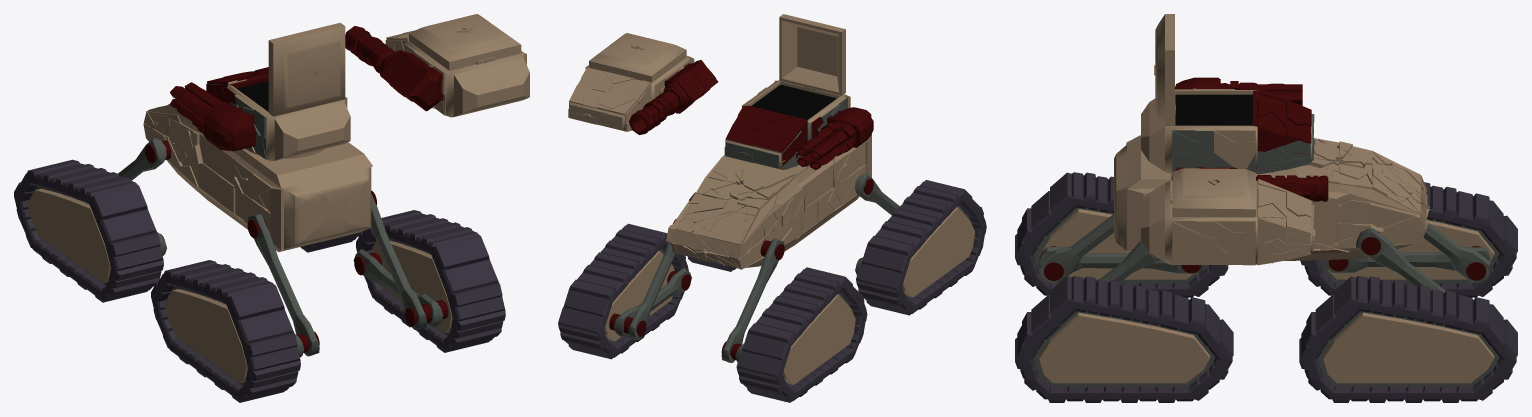
The model's file is Tex the tank for Snapshot.fbx.
3 views of the same model, side by side, from view 1: azimuth 30°, elevation 25°; view 2: azimuth 150°, elevation 25°; view 3: azimuth 270°, elevation 25° (orthographic). The views are drawn at different scales.
Parts seen in each view (by area): view 1: pCube1, polySurface21, polySurface22, polySurface24, pCube2, pCube5, pCube10, pCube8, pCube4, pCube11, polySurface37, polySurface33 (+3 smaller); view 2: pCube1, polySurface22, polySurface21, polySurface23, pCube2, pCube5, pCube10, pCube8, pCube4, pCube11, polySurface35, polySurface31 (+2 smaller); view 3: polySurface24, polySurface23, pCube1, pCube2, pCube10, polySurface21, polySurface22, pCube8, pCube5, polySurface37, polySurface31, pCube11 (+5 smaller).
Part boxes in pixels (x1=…): pCube1: x1=143, y1=102, x2=372, y2=252; polySurface21: x1=151, y1=260, x2=300, y2=402; polySurface22: x1=14, y1=159, x2=163, y2=302; polySurface24: x1=356, y1=210, x2=505, y2=352; pCube2: x1=206, y1=67, x2=350, y2=160; pCube5: x1=268, y1=22, x2=345, y2=116; pCube10: x1=385, y1=30, x2=529, y2=117; pCube8: x1=409, y1=14, x2=521, y2=70; pCube4: x1=345, y1=26, x2=443, y2=111; pCube11: x1=170, y1=82, x2=255, y2=151; polySurface37: x1=247, y1=213, x2=319, y2=356; polySurface33: x1=370, y1=194, x2=427, y2=329; pCube1: x1=666, y1=134, x2=871, y2=269; polySurface22: x1=736, y1=267, x2=867, y2=402; polySurface21: x1=856, y1=180, x2=986, y2=315; polySurface23: x1=558, y1=223, x2=688, y2=359; pCube2: x1=724, y1=80, x2=850, y2=169; pCube5: x1=779, y1=14, x2=845, y2=95; pCube10: x1=568, y1=56, x2=694, y2=131; pCube8: x1=589, y1=33, x2=686, y2=82; pCube4: x1=629, y1=60, x2=717, y2=134; pCube11: x1=797, y1=107, x2=873, y2=169; polySurface35: x1=721, y1=238, x2=784, y2=362; polySurface31: x1=628, y1=242, x2=676, y2=339; polySurface24: x1=1015, y1=276, x2=1233, y2=402; polySurface23: x1=1299, y1=276, x2=1517, y2=402; pCube1: x1=1114, y1=135, x2=1431, y2=260; pCube2: x1=1141, y1=88, x2=1315, y2=174; pCube10: x1=1141, y1=179, x2=1315, y2=265; polySurface21: x1=1015, y1=172, x2=1228, y2=297; polySurface22: x1=1300, y1=182, x2=1517, y2=297; pCube8: x1=1172, y1=168, x2=1255, y2=217; pCube5: x1=1154, y1=14, x2=1174, y2=125; polySurface37: x1=1038, y1=214, x2=1113, y2=283; polySurface31: x1=1356, y1=228, x2=1445, y2=292; pCube11: x1=1175, y1=77, x2=1302, y2=105.
Bounding box in the file's own units: 23.97 × 19.54 × 28.92.
